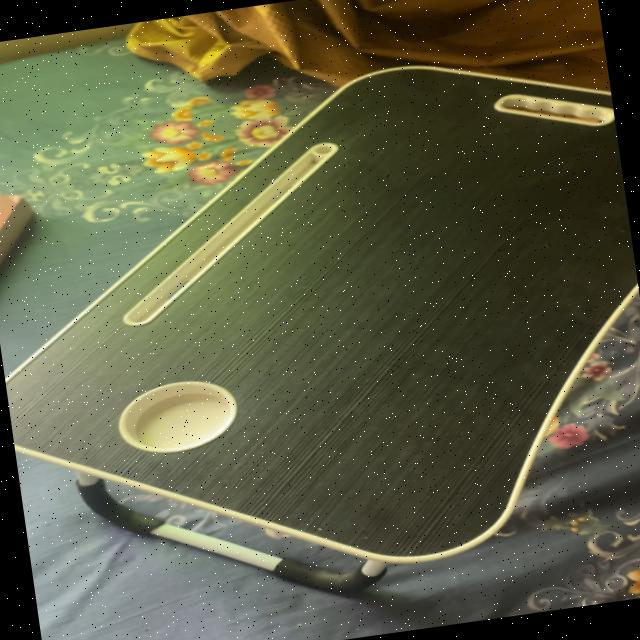table: (0, 34, 640, 632)
